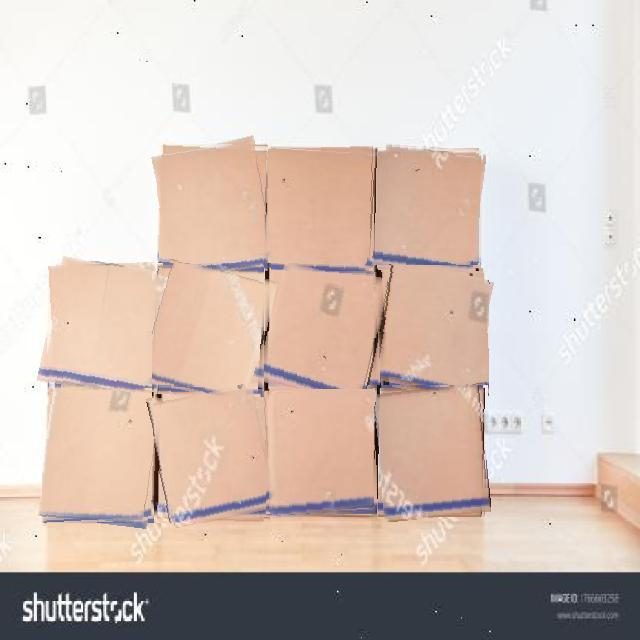BoxFace: (42, 261, 163, 399), (154, 386, 274, 523), (42, 388, 160, 526), (152, 264, 271, 399), (264, 263, 381, 399), (157, 140, 274, 275), (373, 266, 489, 398), (377, 386, 488, 519), (374, 145, 483, 275), (266, 389, 377, 516), (268, 147, 376, 271)
